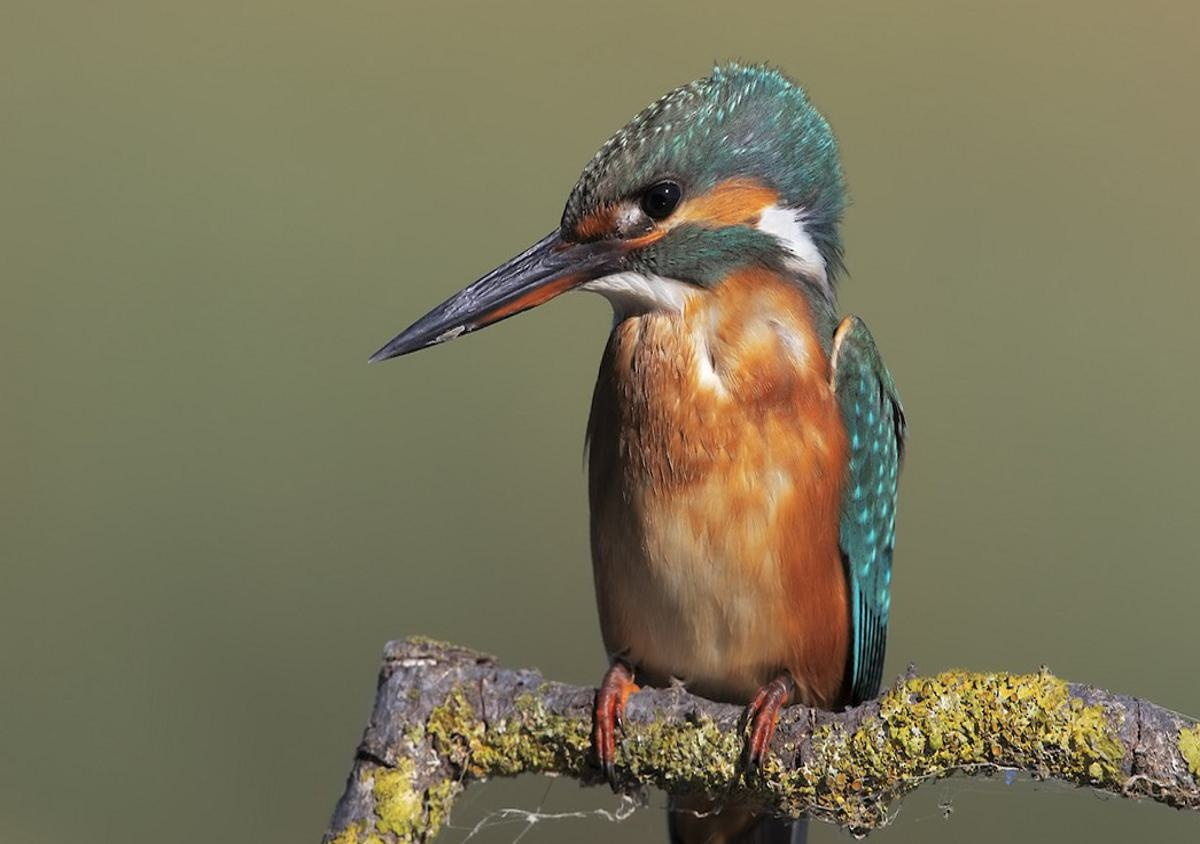kingfisher: (371, 54, 931, 797)
